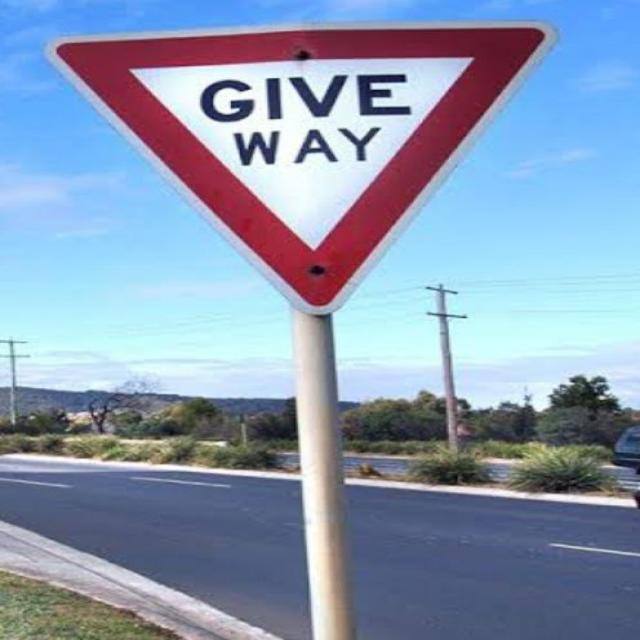giveway: (48, 20, 556, 313)
